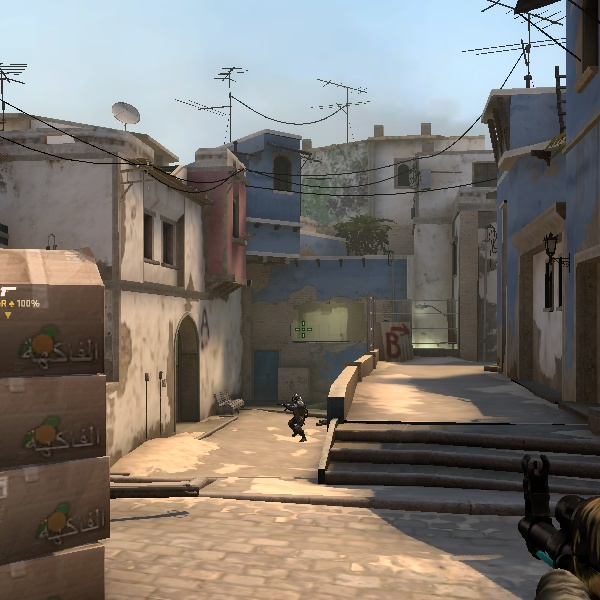ct_body: (282, 391, 309, 439)
ct_head: (290, 392, 302, 404)
